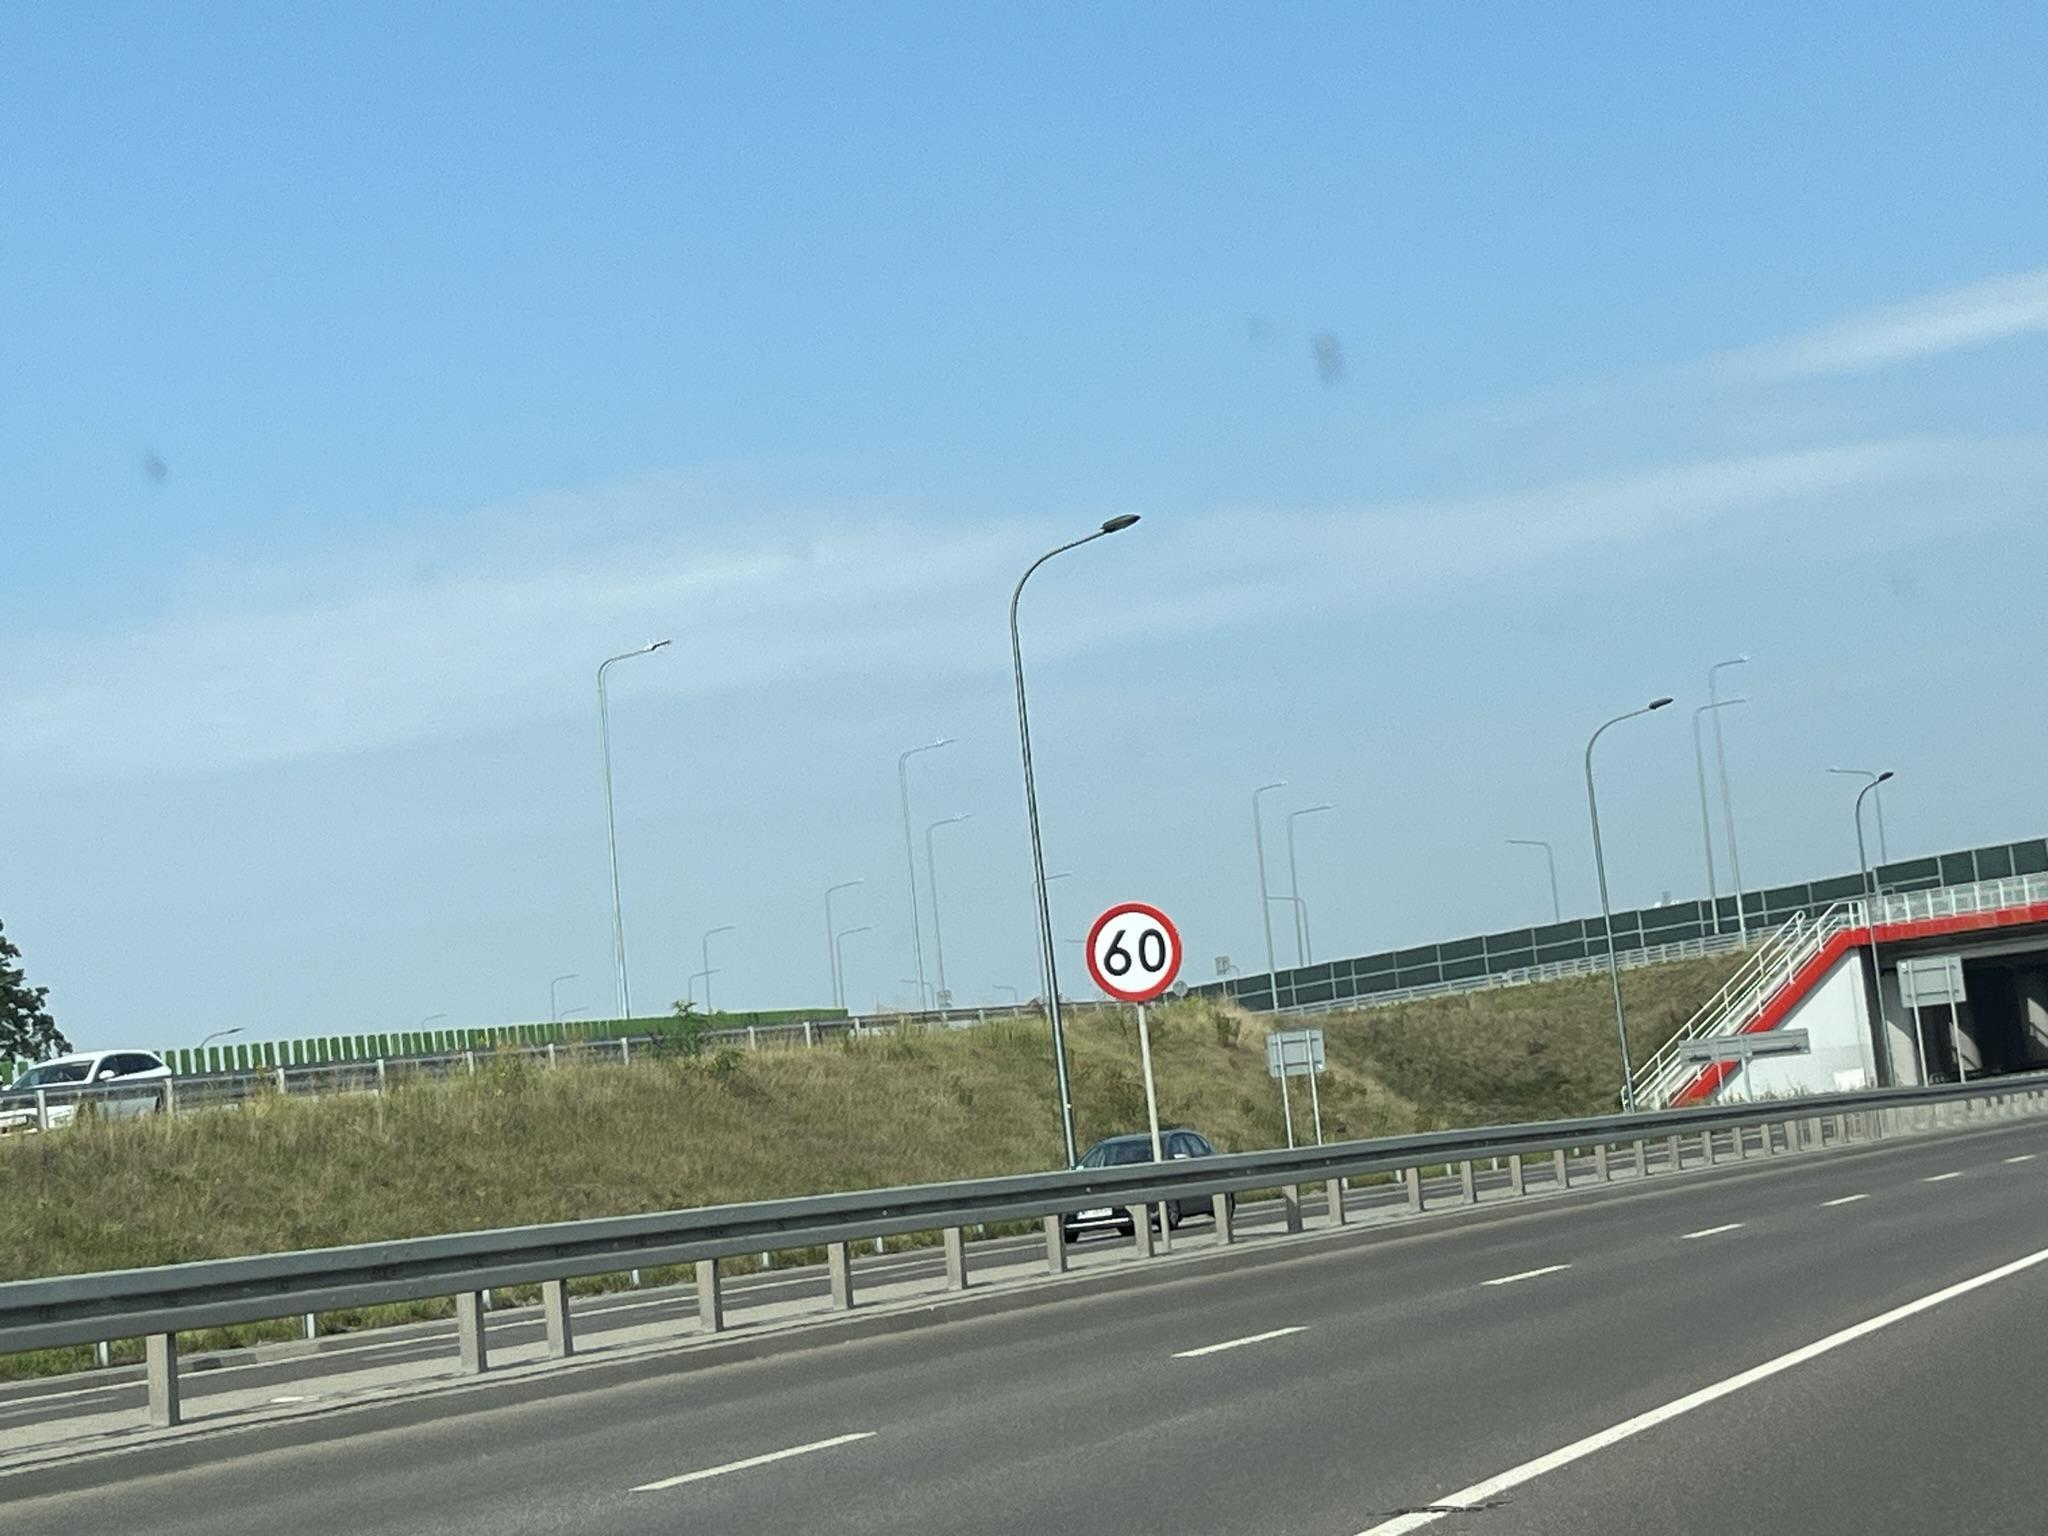prohibitory: (1084, 899, 1184, 1005)
